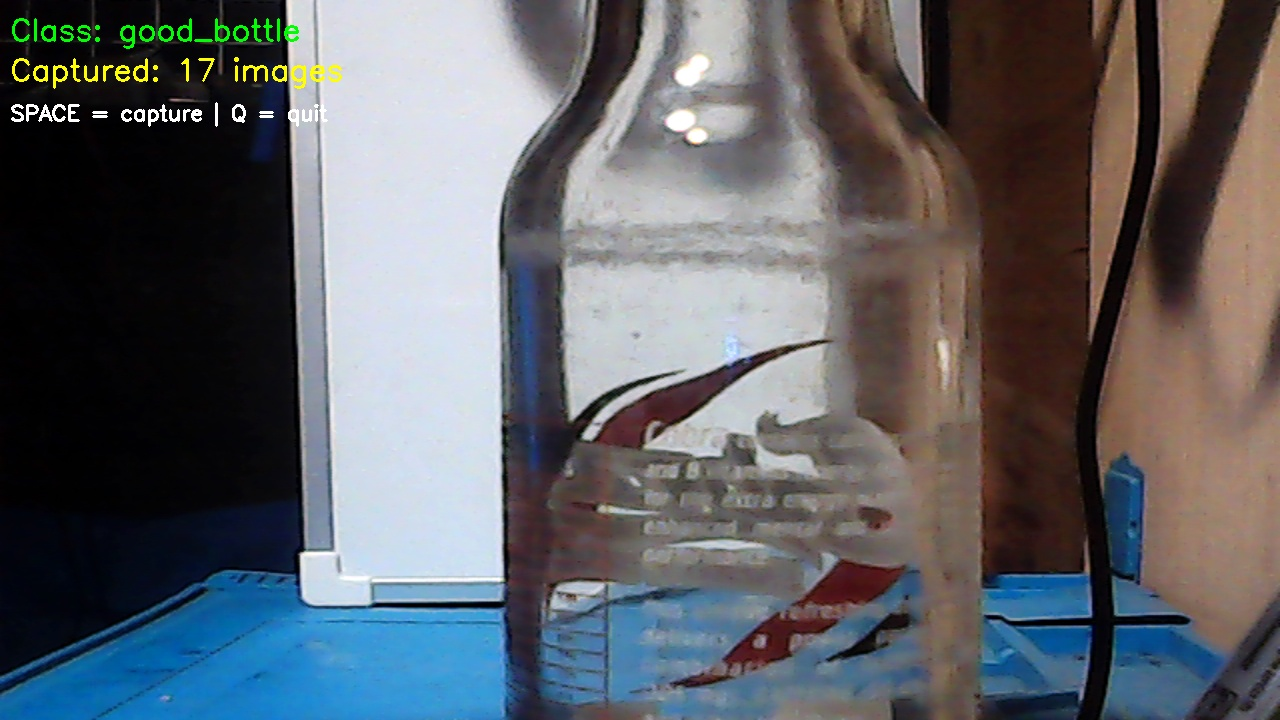good_bottle: (500, 4, 984, 720)
